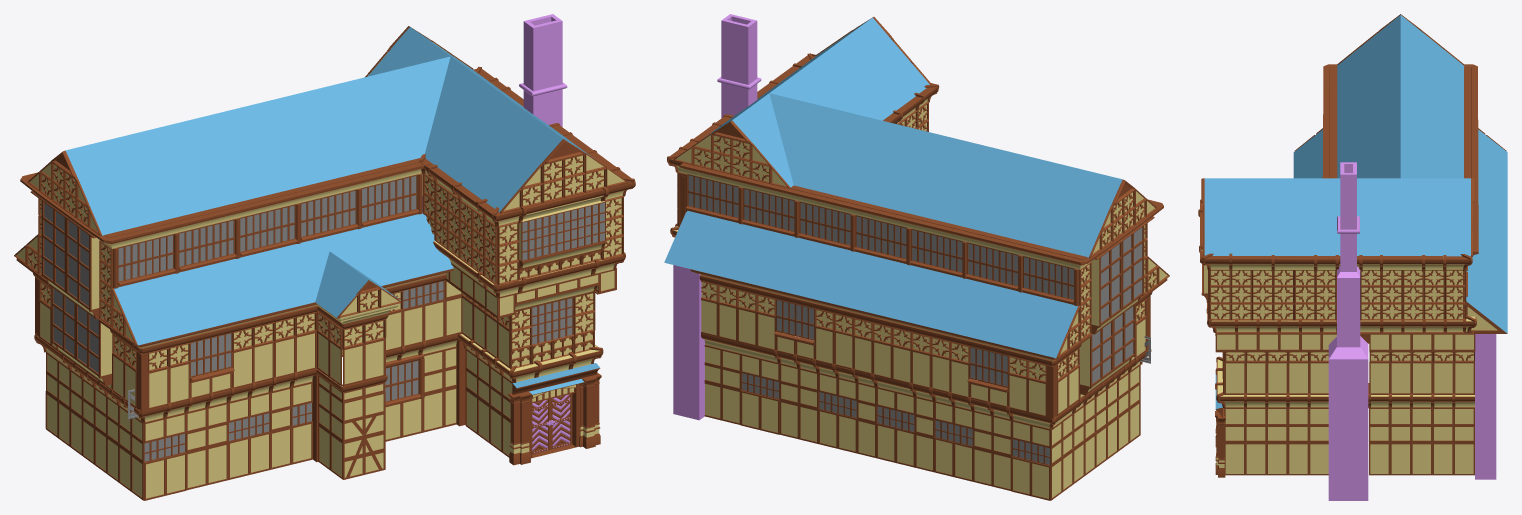
File: muwu13.FBX
3 views of the same model, side by side, from view 1: azimuth 30°, elevation 25°; view 2: azimuth 150°, elevation 25°; view 3: azimuth 270°, elevation 25° (orthographic). The views are drawn at different scales.
Parts seen in each view (by area): view 1: HouseMD01_Wood_Beams, HouseMD01_RoofTiles, HouseMD01_PlasterYellow, HouseMD01_Glass, HouseMD01_Stone_Stacked, HouseMD01_Metal_Pitted; view 2: HouseMD01_RoofTiles, HouseMD01_Wood_Beams, HouseMD01_PlasterYellow, HouseMD01_Glass, HouseMD01_Stone_Stacked; view 3: HouseMD01_RoofTiles, HouseMD01_PlasterYellow, HouseMD01_Wood_Beams, HouseMD01_Stone_Stacked.
Boxes of the visible parts, x1=… form: HouseMD01_Wood_Beams: x1=14, y1=26, x2=635, y2=500; HouseMD01_RoofTiles: x1=65, y1=27, x2=599, y2=394; HouseMD01_PlasterYellow: x1=16, y1=42, x2=624, y2=498; HouseMD01_Glass: x1=44, y1=176, x2=604, y2=461; HouseMD01_Stone_Stacked: x1=422, y1=14, x2=567, y2=211; HouseMD01_Metal_Pitted: x1=532, y1=394, x2=570, y2=452; HouseMD01_RoofTiles: x1=664, y1=17, x2=1122, y2=358; HouseMD01_Wood_Beams: x1=667, y1=17, x2=1169, y2=500; HouseMD01_PlasterYellow: x1=673, y1=31, x2=1167, y2=498; HouseMD01_Glass: x1=688, y1=175, x2=1150, y2=464; HouseMD01_Stone_Stacked: x1=673, y1=14, x2=761, y2=420; HouseMD01_RoofTiles: x1=1204, y1=15, x2=1507, y2=408; HouseMD01_PlasterYellow: x1=1201, y1=33, x2=1497, y2=473; HouseMD01_Wood_Beams: x1=1198, y1=14, x2=1507, y2=477; HouseMD01_Stone_Stacked: x1=1328, y1=162, x2=1496, y2=500.
Bounding box in the file's own units: 17.99 × 13.06 × 11.47.
